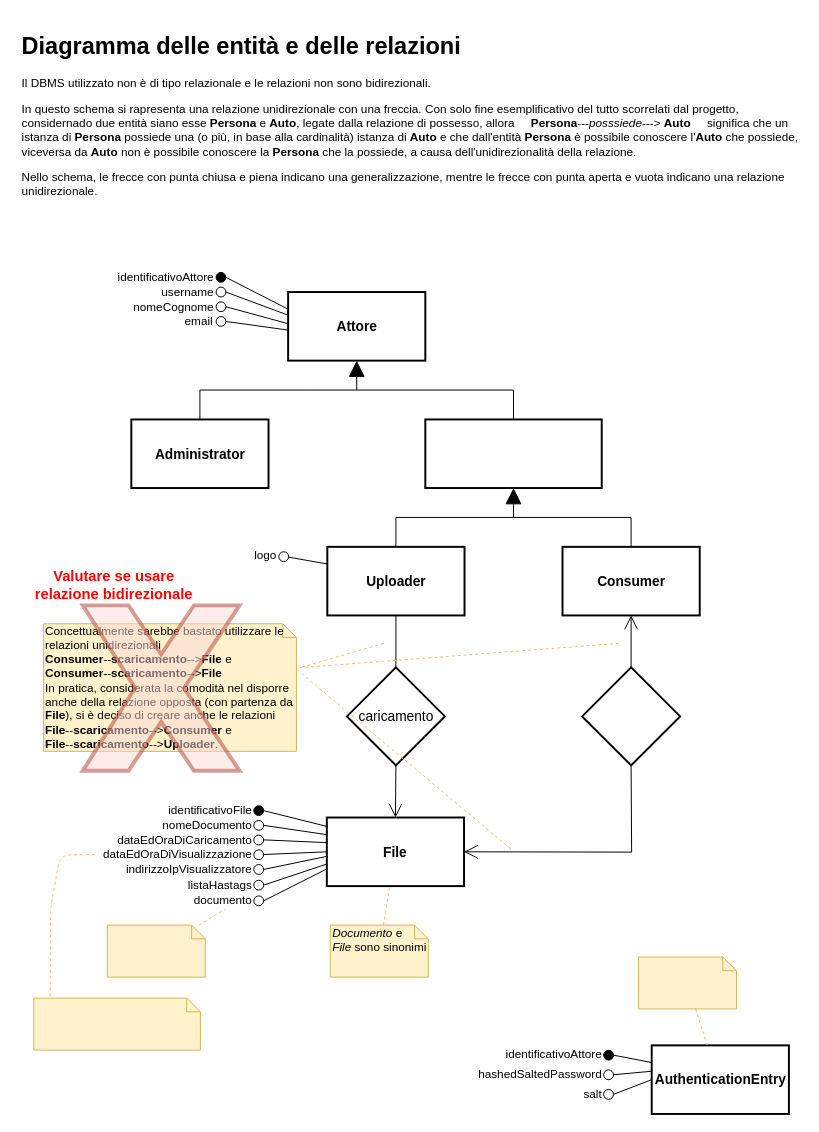
Image size: 819x1132. Some labels were removed from this diagram. The box of each missing label's shape, as (x1, y1, x2, y2) in pixels:
Auhentication Database: (637, 956, 736, 1009)
documento è fisicamente il file da distribuire: (106, 924, 205, 977)
scaricamento: (581, 666, 681, 766)
Un file si considera letto se viene impostata la dataEdOraDiVisualizzazione: (33, 997, 200, 1050)
UtenteNonAdministrator: (424, 418, 602, 489)
